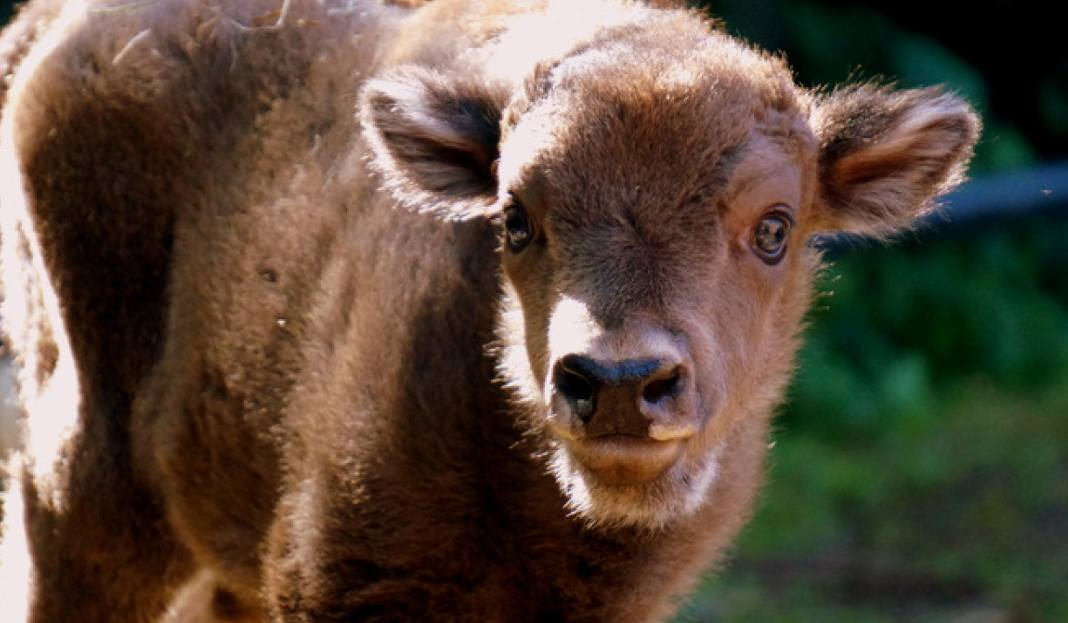zubr: (12, 1, 1011, 600)
